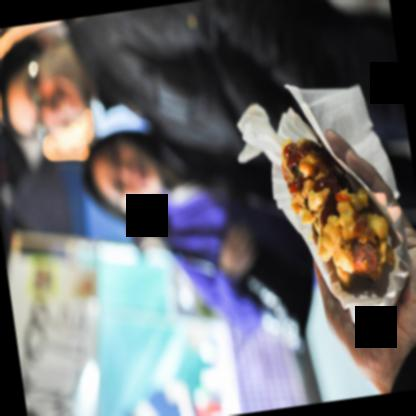handbag: (161, 190, 314, 353)
